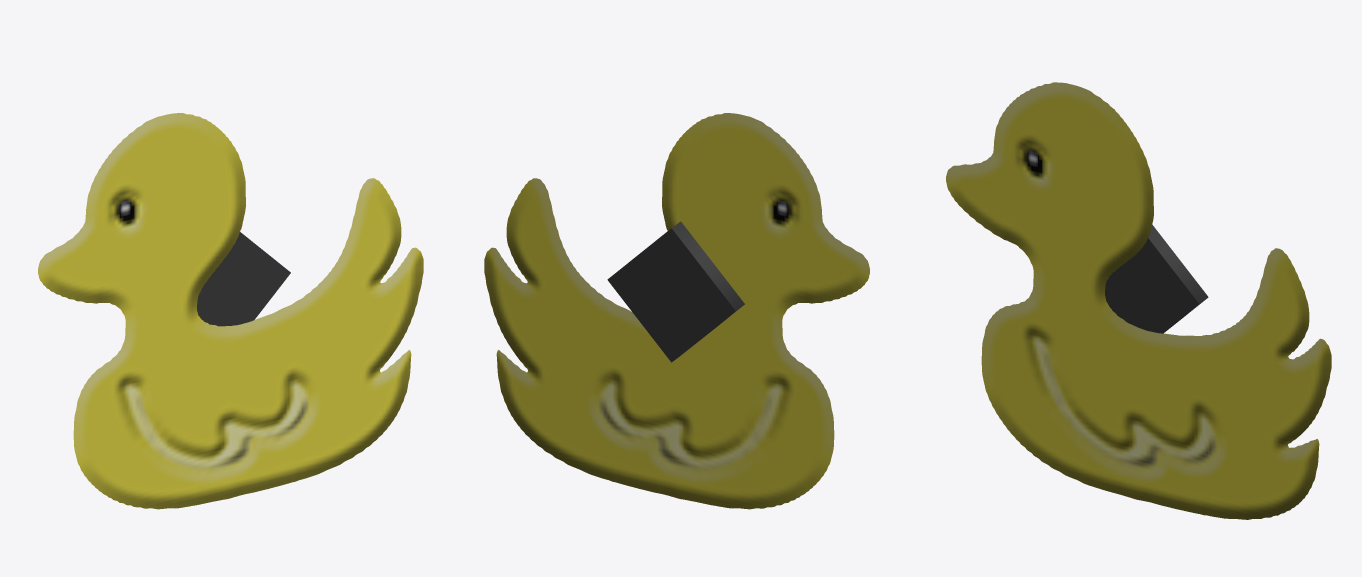
Rendered from Magnet_C.FBX.
3 renders of one model, left to right at view 1: azimuth 30°, elevation 25°; view 2: azimuth 150°, elevation 25°; view 3: azimuth 330°, elevation 25°, orthographic.
Parts seen in each view (by area): view 1: Fridge_Magnet; view 2: Fridge_Magnet; view 3: Fridge_Magnet.
Boxes of the visible parts, x1,y1,x2,y2 form: Fridge_Magnet: [38, 113, 423, 509]; Fridge_Magnet: [484, 113, 869, 509]; Fridge_Magnet: [946, 82, 1331, 519].
Bounding box in the file's own units: 25 × 25 × 0.9737.
